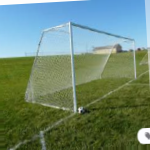goals: (24, 21, 138, 113)
